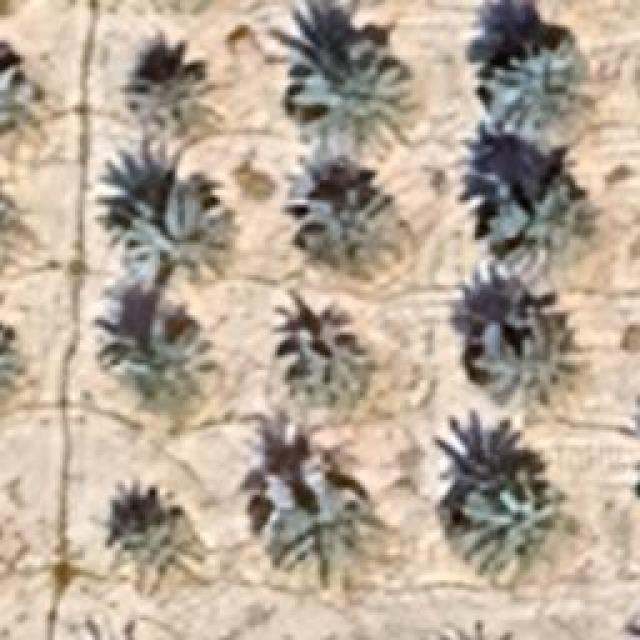PalmTree: (56, 95, 156, 534), (464, 302, 598, 408), (262, 448, 376, 572), (300, 37, 418, 155), (480, 40, 605, 150), (117, 188, 240, 290), (12, 94, 56, 365), (270, 290, 368, 405), (482, 172, 586, 272), (454, 490, 558, 588), (285, 185, 400, 270), (124, 314, 214, 408), (142, 52, 218, 136), (0, 64, 38, 158), (0, 178, 33, 275), (0, 177, 20, 271), (0, 316, 17, 410), (435, 620, 523, 638), (123, 0, 228, 12)
